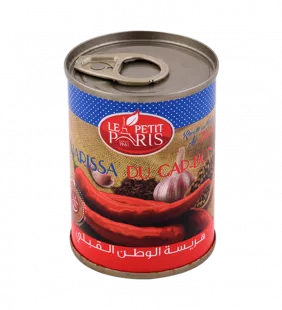LE PETIT PARIS: (53, 20, 228, 284)
